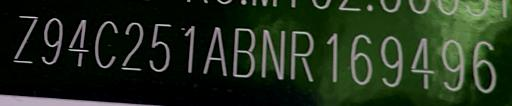letter: (288, 27, 320, 83), (146, 21, 178, 74), (200, 24, 230, 78), (408, 35, 436, 91), (10, 12, 40, 64), (229, 25, 257, 80), (471, 39, 499, 94), (259, 26, 287, 80), (348, 32, 376, 85), (440, 36, 466, 93), (92, 18, 120, 70), (378, 32, 404, 87), (119, 20, 145, 74), (39, 15, 65, 65), (66, 17, 90, 70), (322, 31, 342, 83), (182, 23, 196, 76)
